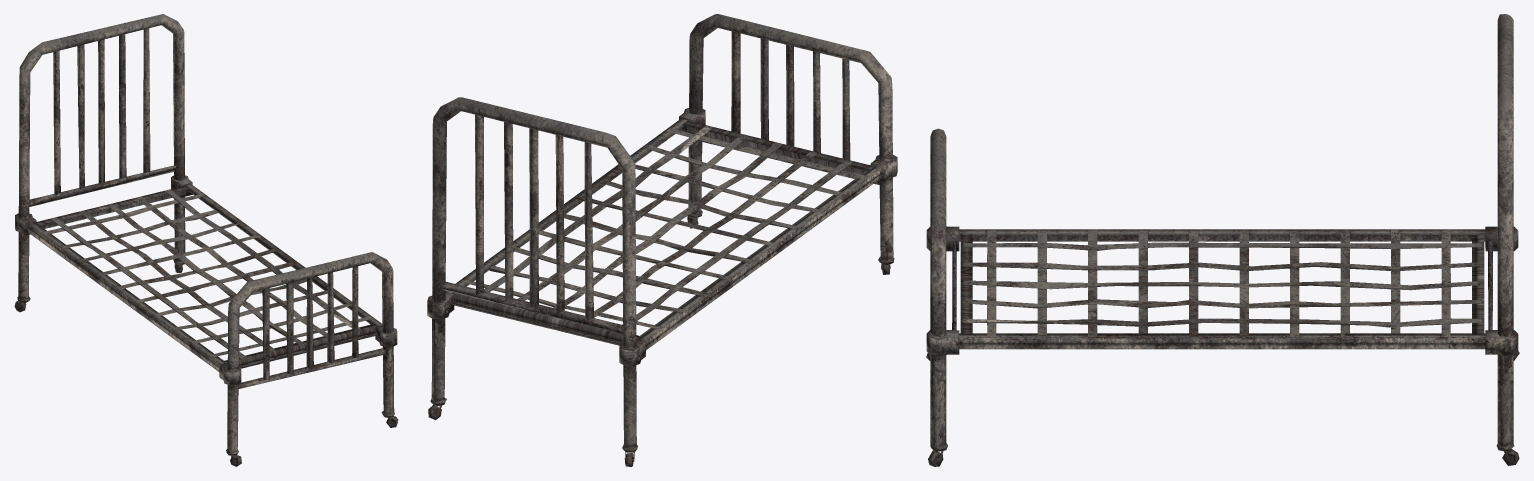
The model's file is Old Hospital Bed.fbx.
3 views of the same model, side by side, from view 1: azimuth 30°, elevation 25°; view 2: azimuth 150°, elevation 25°; view 3: azimuth 270°, elevation 25° (orthographic). The views are drawn at different scales.
Parts seen in each view (by area): view 1: Old Hospital Bed; view 2: Old Hospital Bed; view 3: Old Hospital Bed.
Boxes of the visible parts, box(x1,y1,x2,y2) form: Old Hospital Bed: box(14, 14, 398, 466); Old Hospital Bed: box(427, 14, 897, 466); Old Hospital Bed: box(926, 14, 1519, 466).
Size of the model in its own units: 106 by 156 by 234.
Materials: 1 (1 with a texture image).
